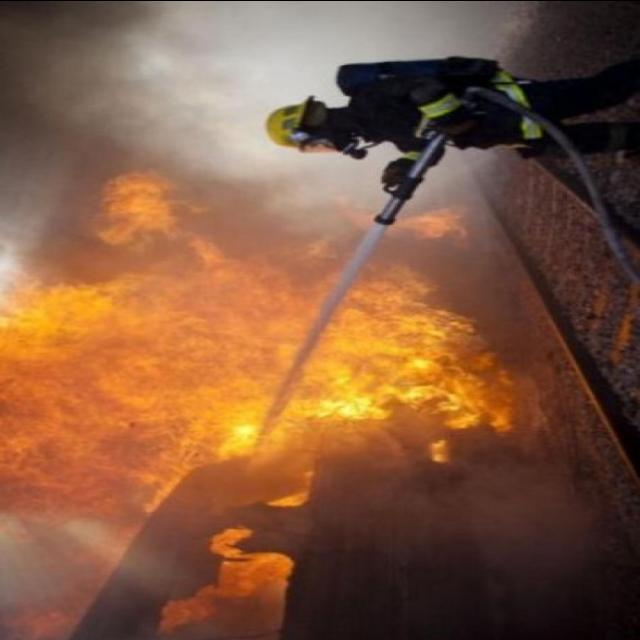Fire: (0, 176, 516, 544)
